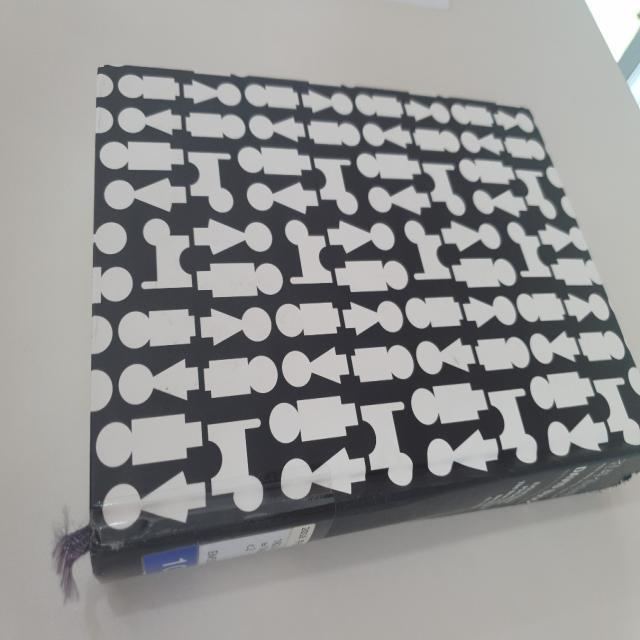Wornout: (584, 466, 639, 498), (88, 518, 104, 551)
